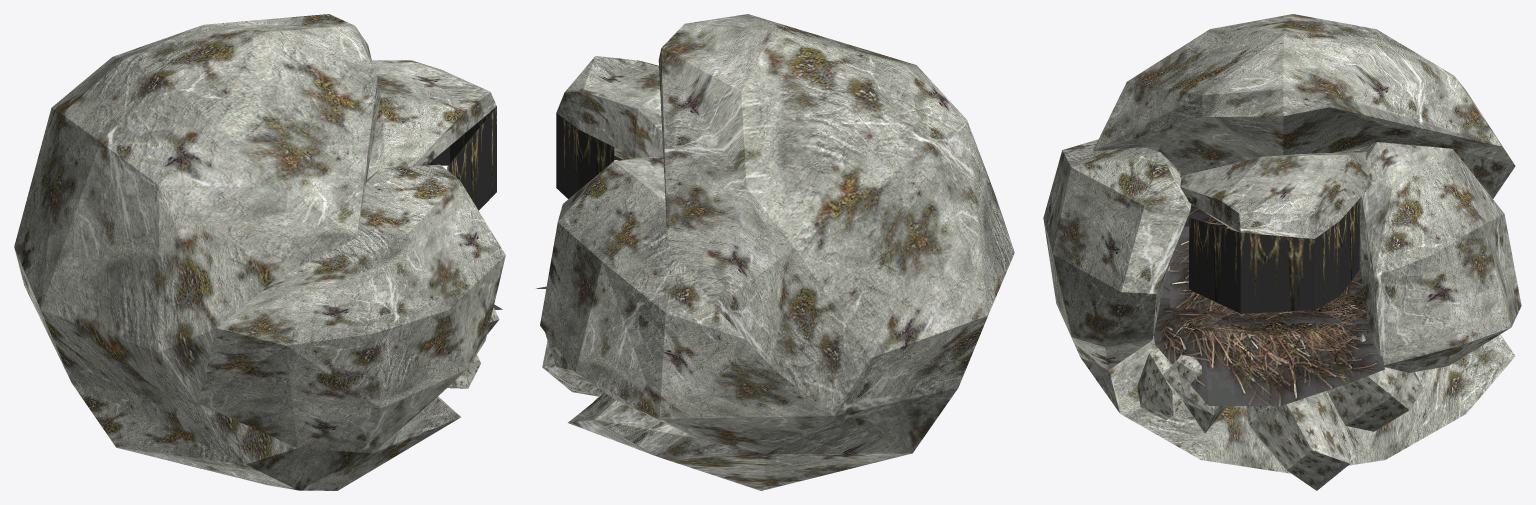
The model's file is poi_all_lair_rock_shelter_small_l1.fbx.
The picture shows the model from 3 angles, left to right: view 1: azimuth 30°, elevation 25°; view 2: azimuth 150°, elevation 25°; view 3: azimuth 270°, elevation 25°; orthographic projection. The views are drawn at different scales.
Visible parts, largest first — view 1: mesh_node; view 2: mesh_node; view 3: mesh_node.
Part boxes in pixels (x1,y1,x2,y2): mesh_node: (14,14,505,490); mesh_node: (536,14,1014,490); mesh_node: (1043,14,1521,490).
Size of the model in its own units: 1.94 by 1.98 by 1.98.
